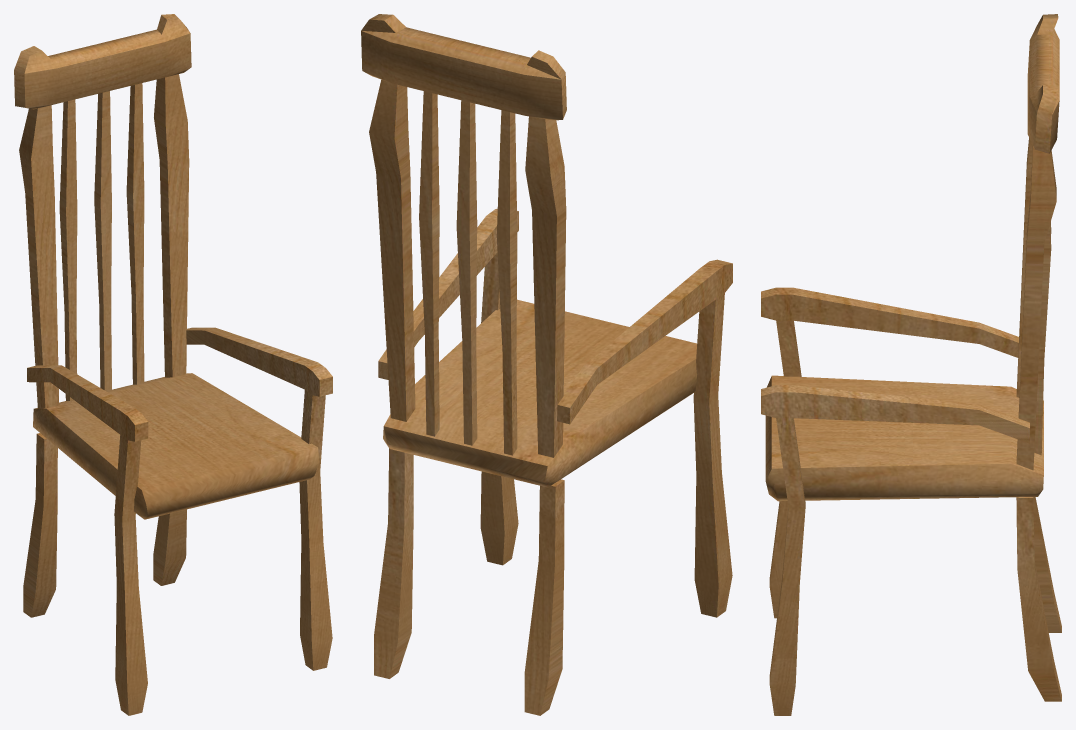
Rendered from ChairII_vi.fbx.
3 renders of one model, left to right at view 1: azimuth 30°, elevation 25°; view 2: azimuth 150°, elevation 25°; view 3: azimuth 270°, elevation 25°, orthographic. The views are drawn at different scales.
Parts seen in each view (by area): view 1: ChairII; view 2: ChairII; view 3: ChairII.
Part boxes in pixels (left/top/right/bottom): ChairII: left=14, top=14, right=332, bottom=715; ChairII: left=361, top=14, right=732, bottom=715; ChairII: left=761, top=14, right=1061, bottom=715.
Size of the model in its own units: 0.00683 by 0.018 by 0.008.
Materials: 1 (1 with a texture image).
